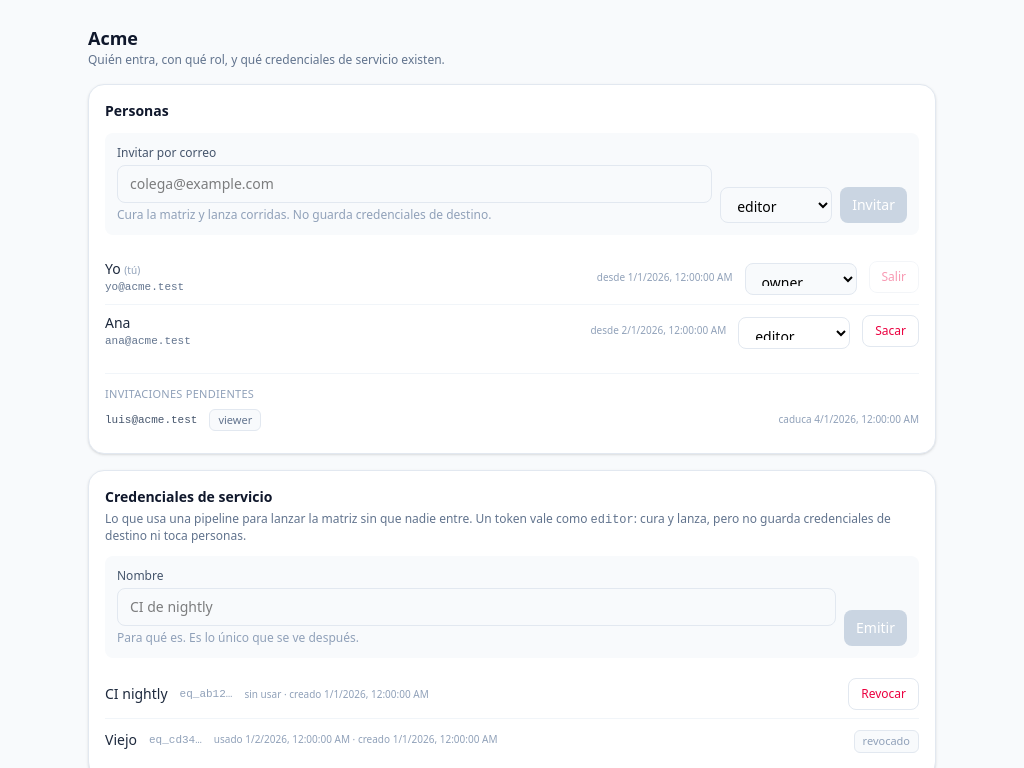
Scenario: SettingsPage › invitar manda correo y rol, y enseña el enlace
Expected: the text "ana@acme.test" is shown, [105,332,191,349]
Expected: the button "Invitar" is disabled, [840,187,907,223]
Type "eva@acme.test" into the field with placeholder "colega@example.com" at (415, 184), box [117,165,712,203]
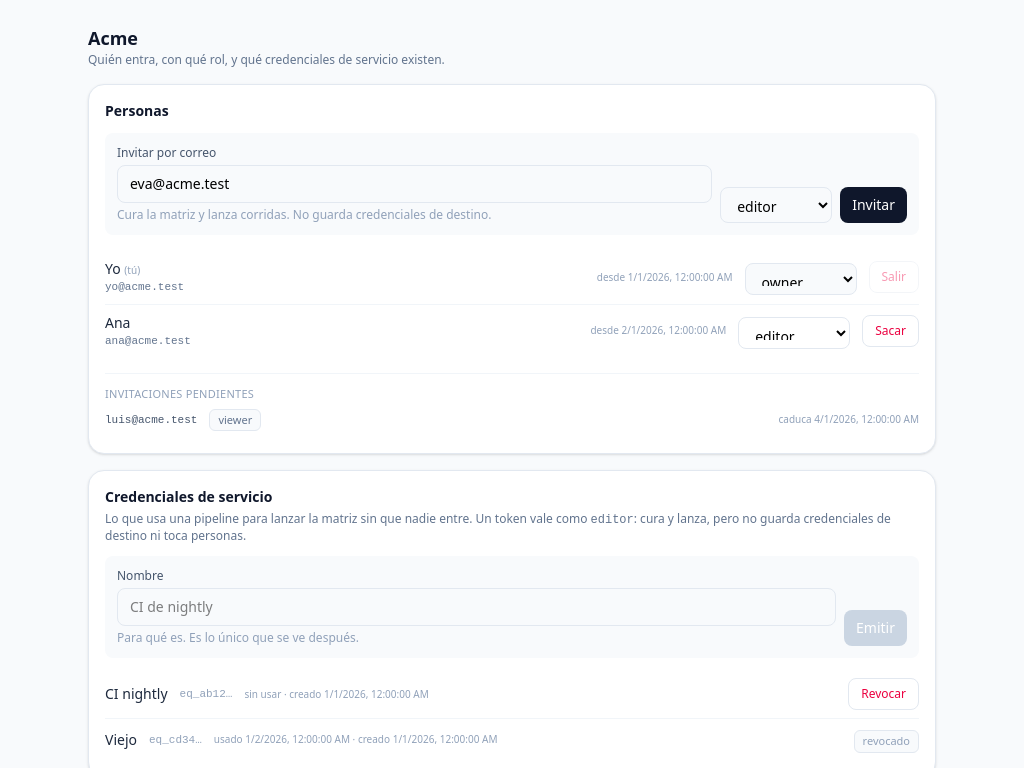
Select "viewer" in the 1st dropdown at (776, 205), box [720,187,832,223]
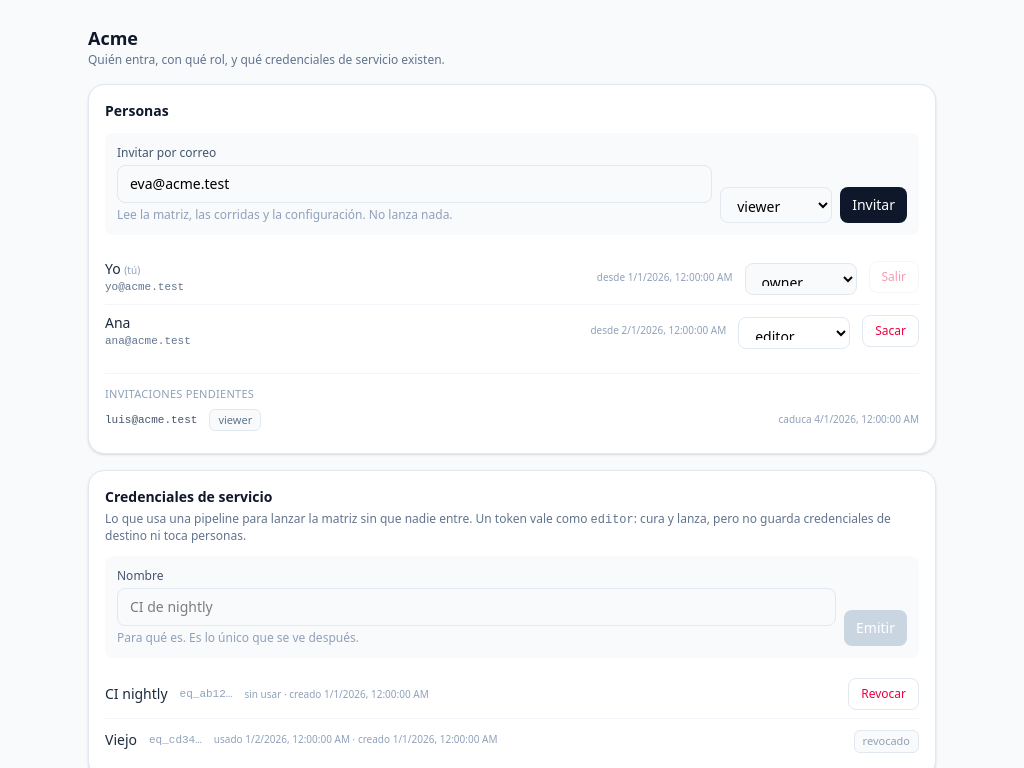
Now the text "Lee la matriz, las corridas" is shown, box [117,206,453,223]
Click the button "Invitar" at (874, 205), box [840,187,907,223]
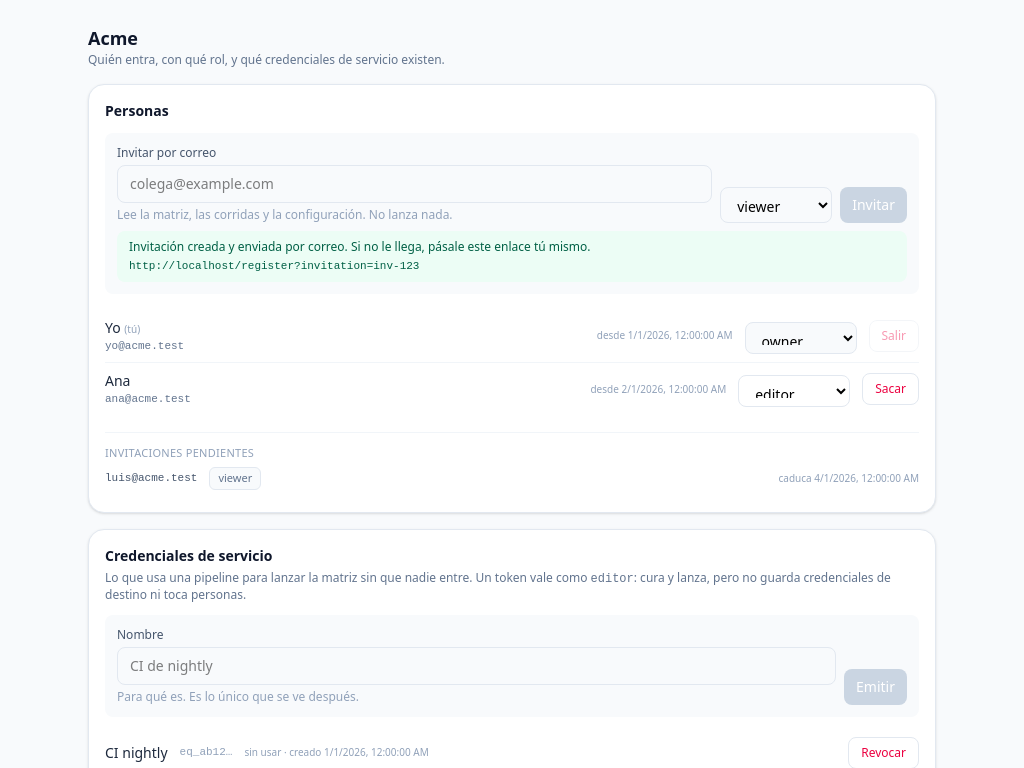
Now the text "http://localhost/register?invitation=inv-123" is shown, box [129,260,420,272]
Now the field with placeholder "colega@example.com" is empty, box [117,165,712,203]
